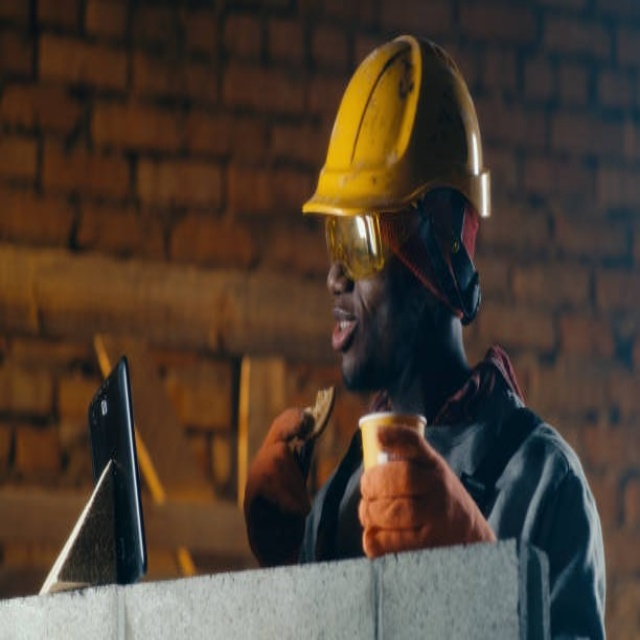Gafas: (320, 205, 432, 279)
Guantes: (357, 411, 499, 564), (244, 390, 332, 562)
Sin_mascara: (328, 296, 372, 381)
